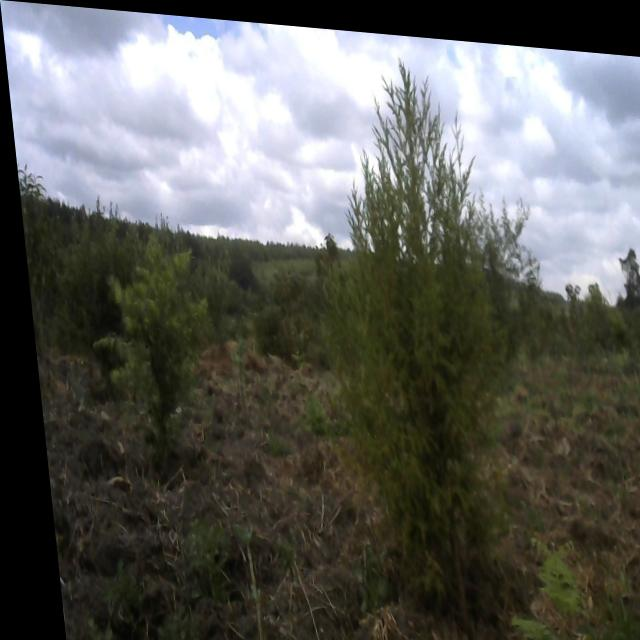cedrus: (289, 45, 554, 640)
